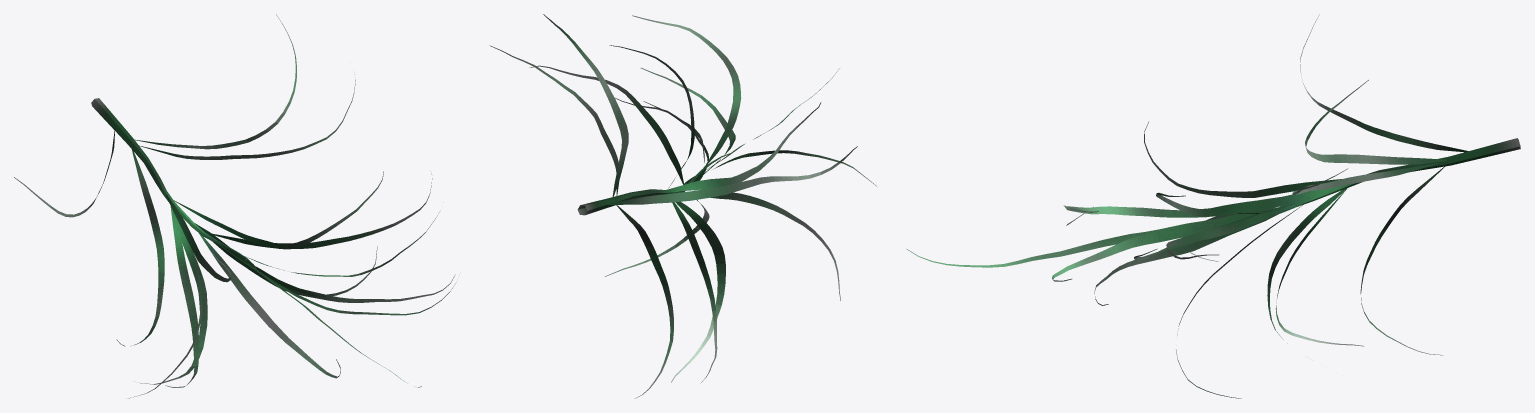
Rendered from green grass tall.glb.
The picture shows the model from 3 angles, left to right: view 1: azimuth 30°, elevation 25°; view 2: azimuth 150°, elevation 25°; view 3: azimuth 270°, elevation 25°; orthographic projection. The views are drawn at different scales.
Visible parts, largest first — view 1: Object.1; view 2: Object.1; view 3: Object.1.
Boxes of the visible parts, x1,y1,x2,y2 form: Object.1: (14,14,456,398); Object.1: (489,14,876,398); Object.1: (906,14,1520,398).
Size of the model in its own units: 376 by 328 by 512.
Materials: 1 (1 with a texture image).
